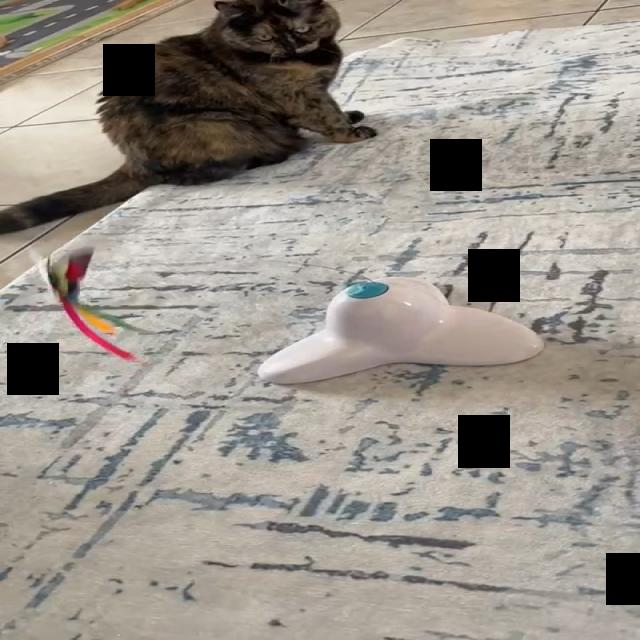authorized: (0, 0, 377, 234)
